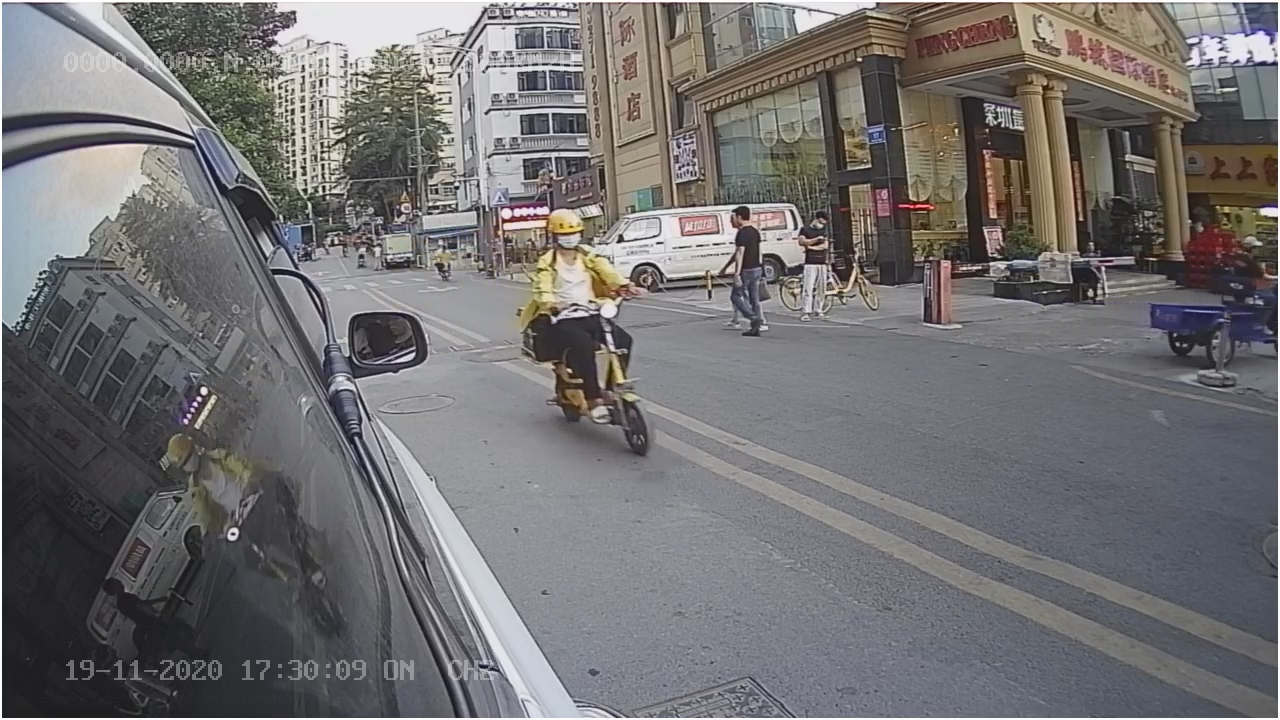person: (527, 203, 632, 296)
